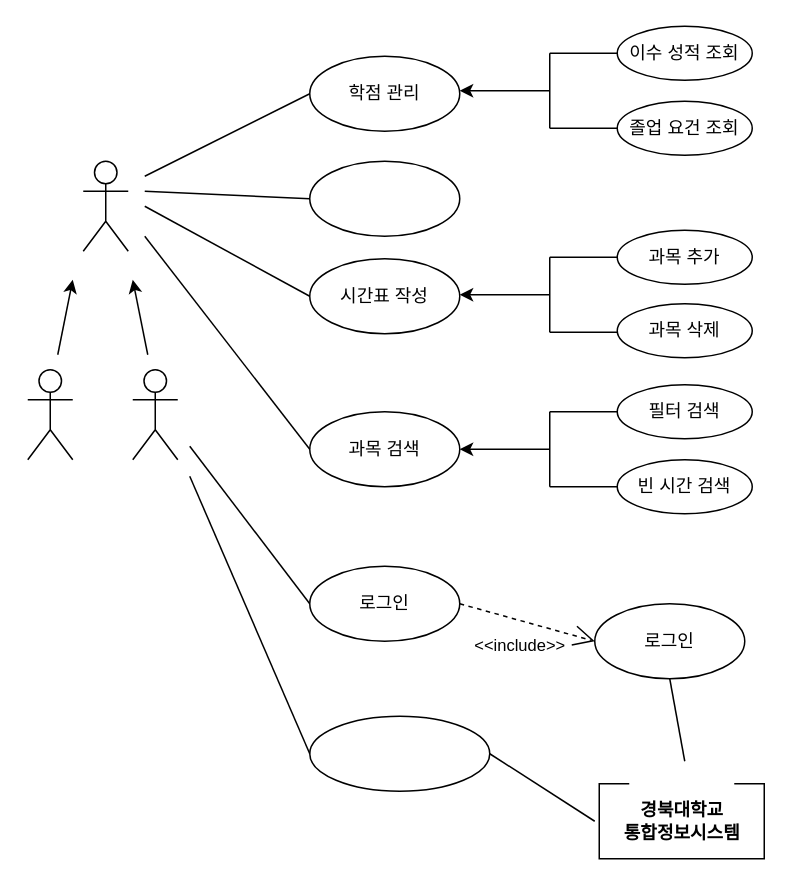
This 791x885 diagram has some shape labels left out. The centre of each missing label's shape, as x and y in pixels:
"<<actor>>" goes at point (681, 783).
"USER" goes at point (105, 205).
"비회원" goes at point (49, 414).
"시간표 업데이트 및 불러오기" goes at point (399, 753).
"시간표 저장" goes at point (384, 198).
"회원" goes at point (154, 414).
